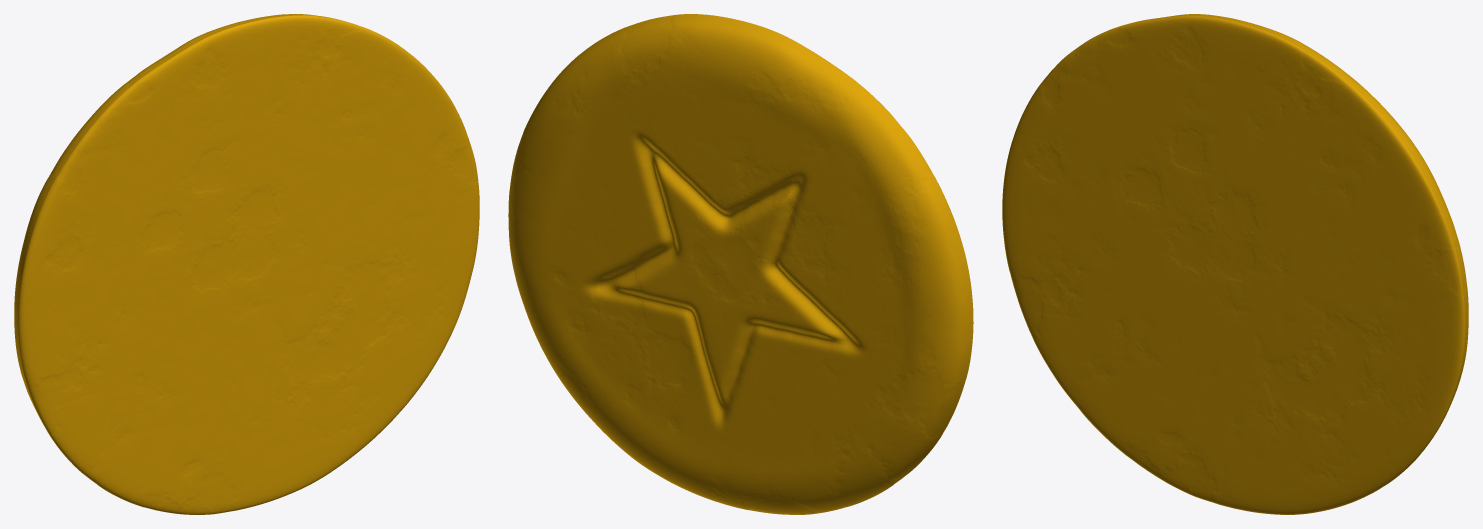
The model's file is squid_dalgona-3d.glb.
3 renders of one model, left to right at view 1: azimuth 30°, elevation 25°; view 2: azimuth 150°, elevation 25°; view 3: azimuth 330°, elevation 25°, orthographic.
Bounding box in the file's own units: 22.64 × 22.75 × 1.82.
